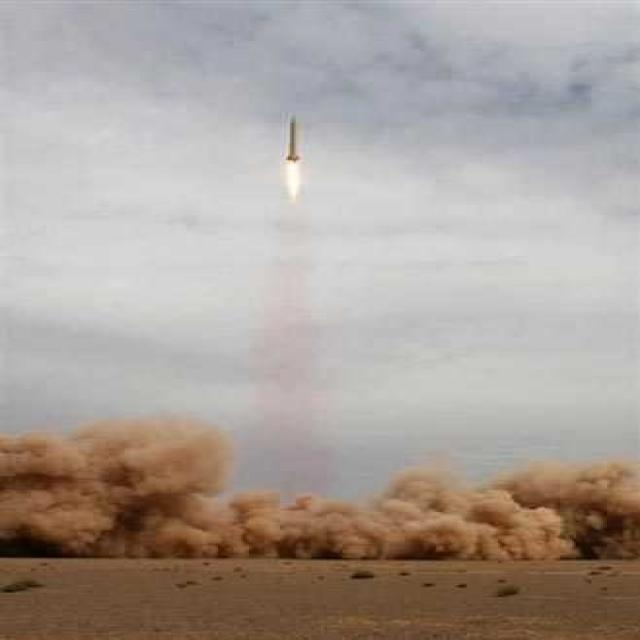missile: (280, 112, 305, 161)
